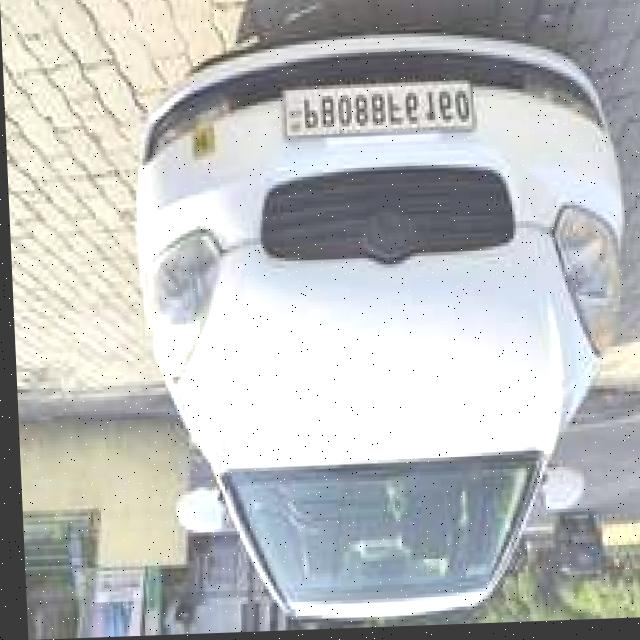plate: (281, 77, 477, 144)
